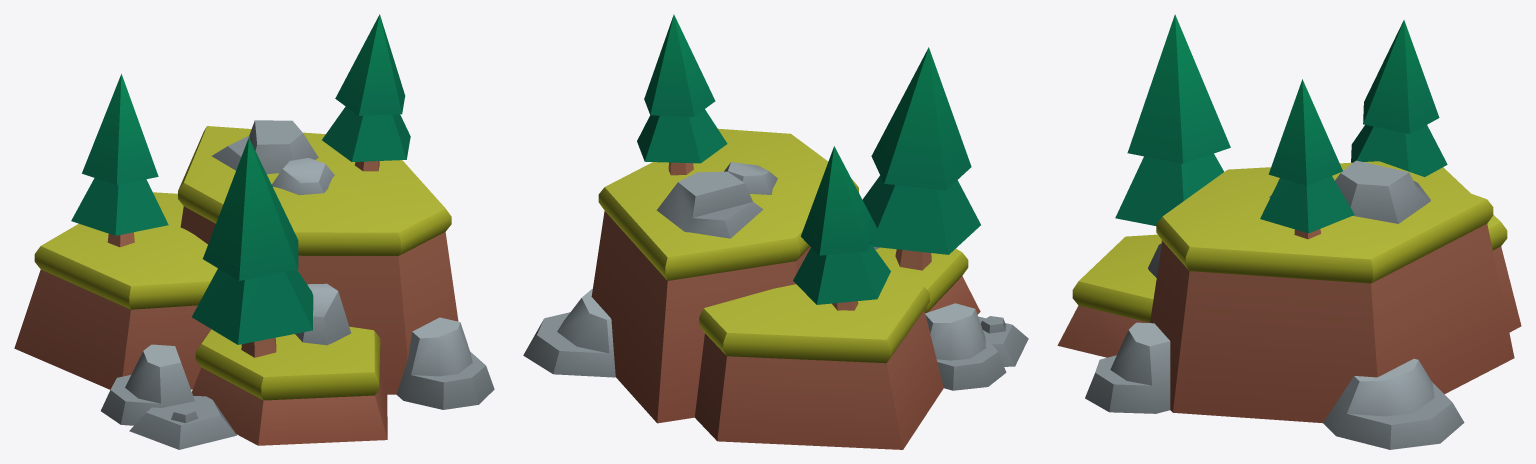
Rendered from hills_A_trees.glb.
3 renders of one model, left to right at view 1: azimuth 30°, elevation 25°; view 2: azimuth 150°, elevation 25°; view 3: azimuth 270°, elevation 25°, orthographic. The views are drawn at different scales.
Visible parts, largest first — view 1: hills_A_trees; view 2: hills_A_trees; view 3: hills_A_trees.
Boxes of the visible parts, box(x1,y1,x2,y2) form: hills_A_trees: box(14, 14, 494, 449); hills_A_trees: box(523, 14, 1028, 449); hills_A_trees: box(1057, 14, 1521, 449).
Bounding box in the file's own units: 1.76 × 1.33 × 1.74.
Materials: 1 (1 with a texture image).
